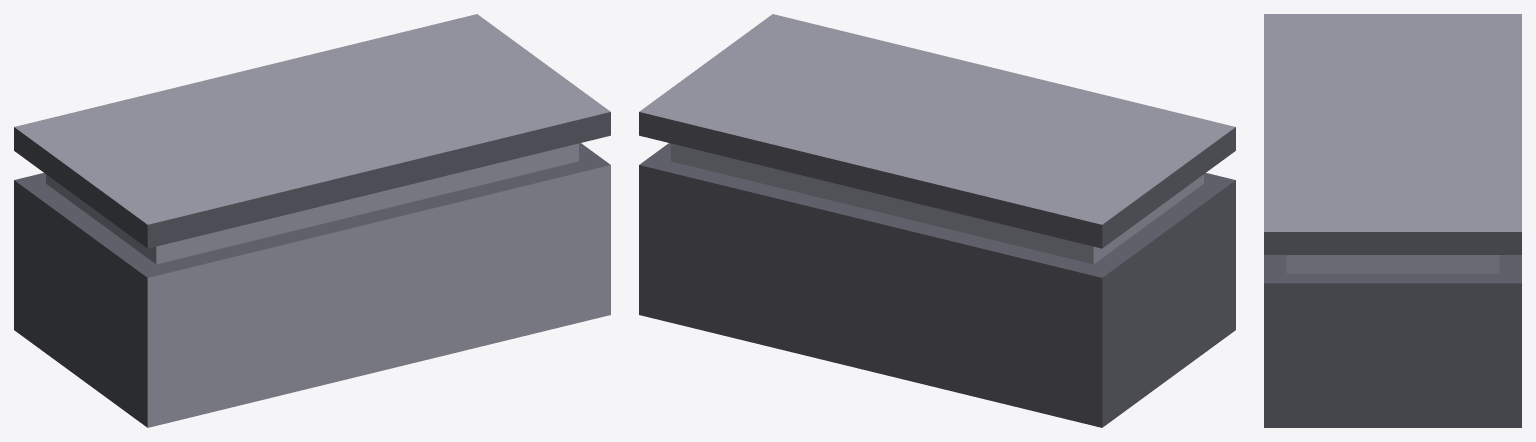
The model's file is Table.fbx.
The picture shows the model from 3 angles, left to right: view 1: azimuth 30°, elevation 25°; view 2: azimuth 150°, elevation 25°; view 3: azimuth 270°, elevation 25°; orthographic projection. The views are drawn at different scales.
Parts seen in each view (by area): view 1: Table; view 2: Table; view 3: Table.
Part boxes in pixels (bbox=[...]): Table: bbox=[14, 14, 610, 427]; Table: bbox=[639, 14, 1235, 427]; Table: bbox=[1264, 14, 1521, 427].
Bounding box in the file's own units: 144 × 60.35 × 72.
